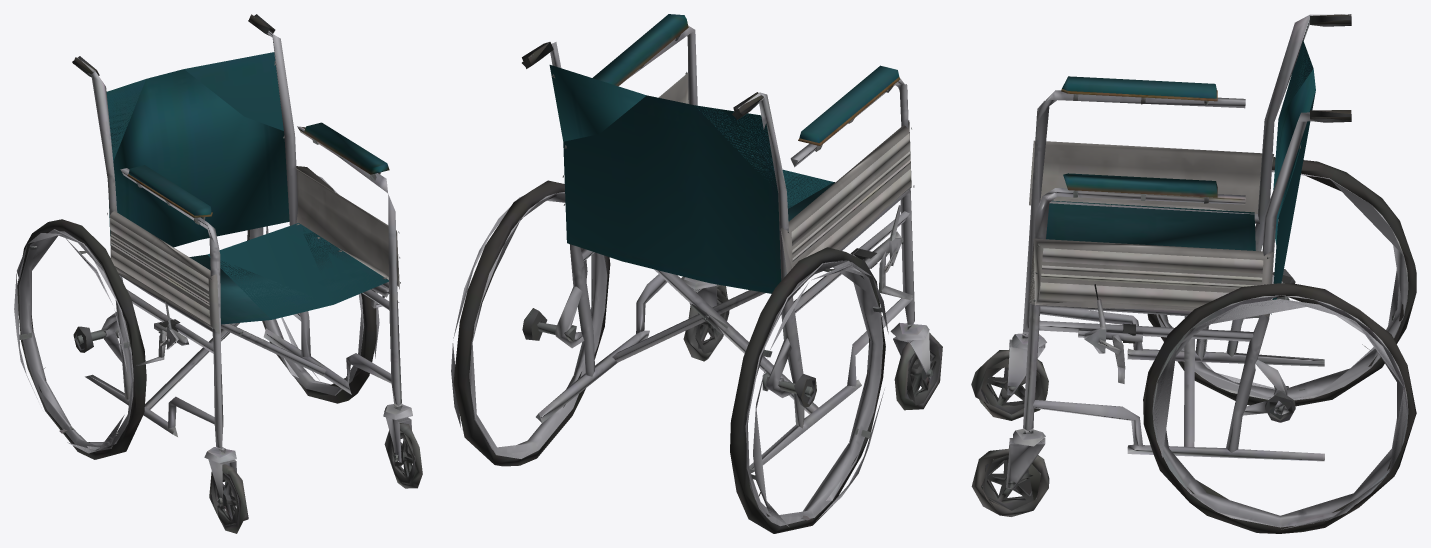
The model's file is wheelchair_01.glb.
3 renders of one model, left to right at view 1: azimuth 30°, elevation 25°; view 2: azimuth 150°, elevation 25°; view 3: azimuth 270°, elevation 25°, orthographic. The views are drawn at different scales.
Parts seen in each view (by area): view 1: wheelchair_01; view 2: wheelchair_01; view 3: wheelchair_01.
Part boxes in pixels (bbox=[...]): wheelchair_01: bbox=[14, 14, 422, 533]; wheelchair_01: bbox=[451, 14, 942, 533]; wheelchair_01: bbox=[971, 14, 1416, 533].
Size of the model in its own units: 0.8241 by 1.1 by 1.09.
1 material, 1 textured.
